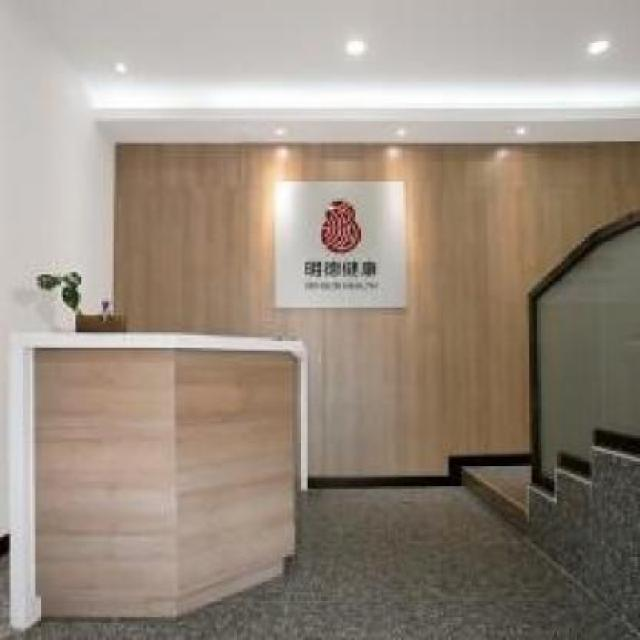frontdesk: (5, 318, 314, 640)
